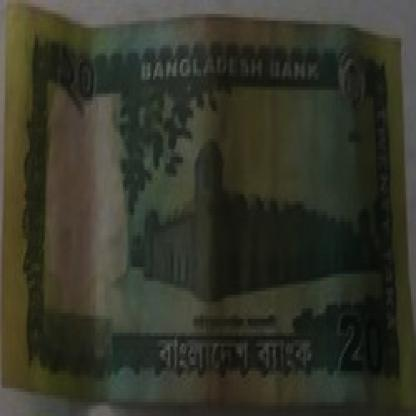Twenty: (58, 42, 107, 124), (335, 312, 386, 385)
